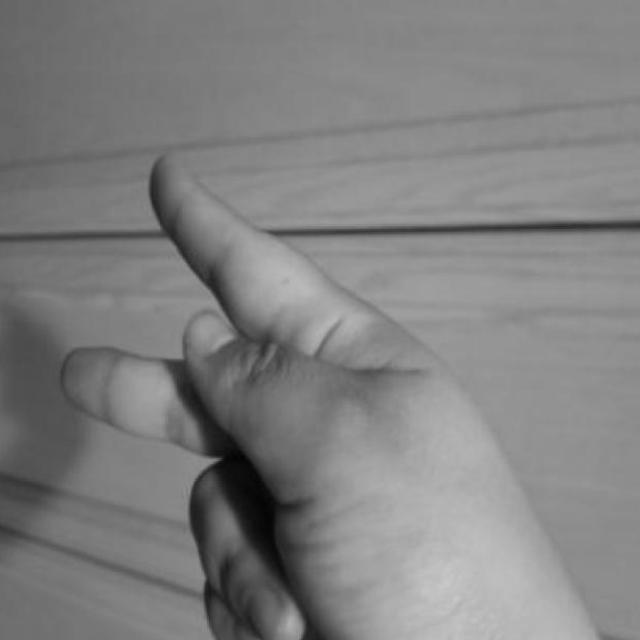P: (34, 145, 541, 640)
